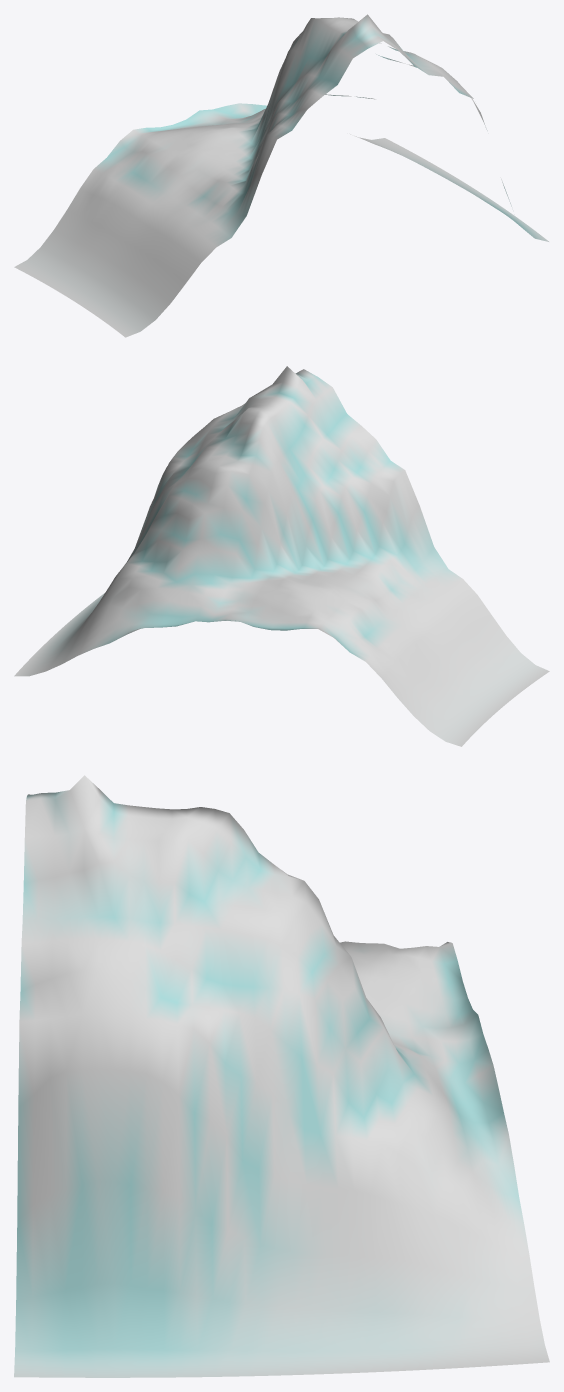
The model's file is middle_17.glb.
The picture shows the model from 3 angles, top to bottom: view 1: azimuth 30°, elevation 25°; view 2: azimuth 150°, elevation 25°; view 3: azimuth 270°, elevation 25°; orthographic projection. The views are drawn at different scales.
Parts seen in each view (by area): view 1: Mountain; view 2: Mountain; view 3: Mountain.
Boxes of the visible parts, x1=… form: Mountain: x1=14, y1=14, x2=548, y2=337; Mountain: x1=14, y1=366, x2=549, y2=746; Mountain: x1=14, y1=775, x2=549, y2=1377.
Bounding box in the file's own units: 617 × 349 × 370.
